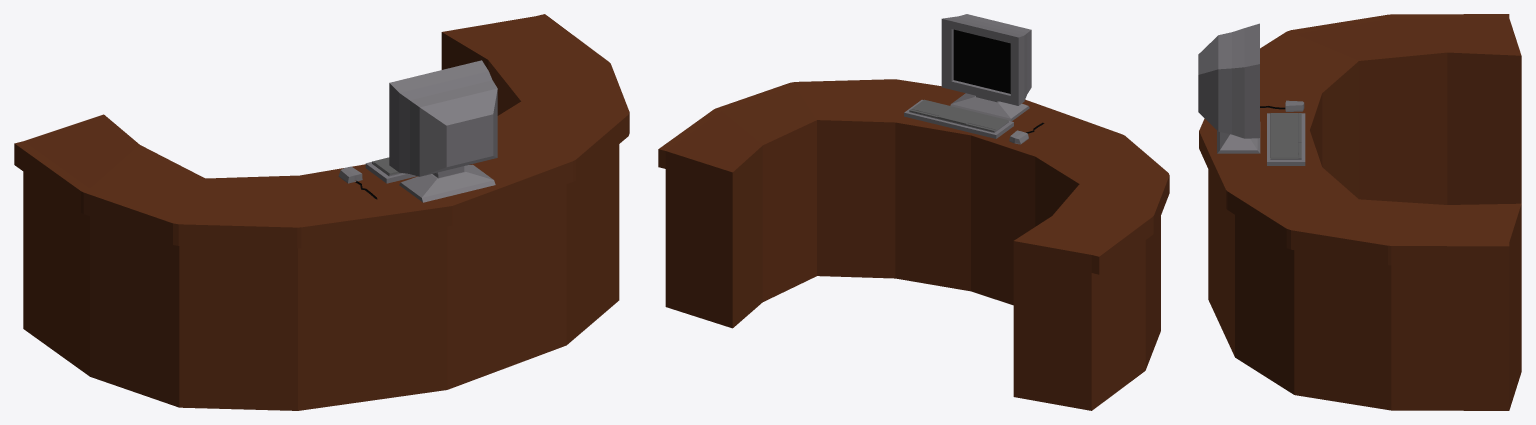
Rendered from Recepcion.fbx.
The picture shows the model from 3 angles, left to right: view 1: azimuth 30°, elevation 25°; view 2: azimuth 150°, elevation 25°; view 3: azimuth 270°, elevation 25°; orthographic projection. The views are drawn at different scales.
Visible parts, largest first — view 1: Recepcion, Pc; view 2: Recepcion, Pc; view 3: Recepcion, Pc.
Part boxes in pixels (box(x1,y1,x2,y2)): Recepcion: box(14, 14, 629, 410); Pc: box(338, 60, 497, 202); Recepcion: box(658, 79, 1169, 410); Pc: box(904, 14, 1044, 144); Recepcion: box(1199, 14, 1521, 410); Pc: box(1198, 23, 1305, 165).
Bounding box in the file's own units: 591 × 312 × 347.
